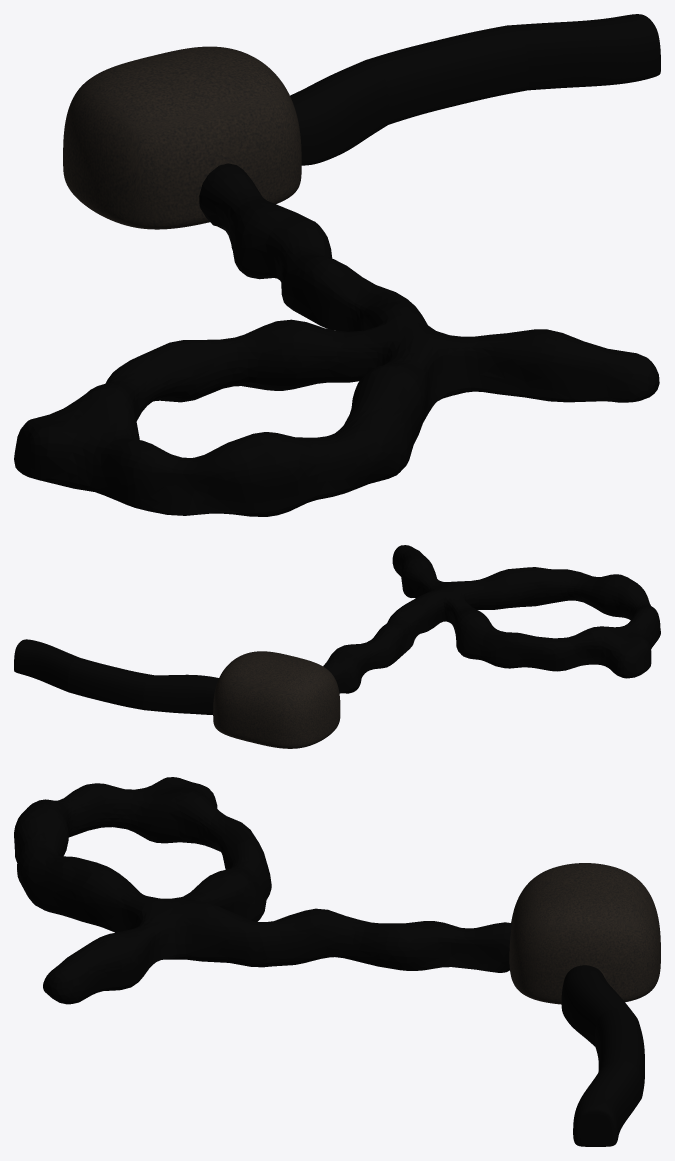
File: Prototype_Map.fbx
3 views of the same model, one above another, from view 1: azimuth 30°, elevation 25°; view 2: azimuth 150°, elevation 25°; view 3: azimuth 270°, elevation 25° (orthographic). The views are drawn at different scales.
Visible parts, largest first — view 1: Cave_1, Cave_3.5, Cave_3.7, Cave_2.2, Cave_3.8, Cave_2.3, Cave_3.11, Cave_3.9, Cave_2.1, Cave_3.10, Cave_3.3, Cave_3.6 (+3 smaller); view 2: Cave_1, Cave_3.9, Cave_3.10, Cave_2.2, Cave_2.1, Cave_3.6, Cave_3.7, Cave_2.3, Cave_3.3, Cave_3.11, Cave_3.2, Cave_3.5 (+3 smaller); view 3: Cave_1, Cave_3.3, Cave_3.5, Cave_3.6, Cave_3.9, Cave_3.2, Cave_2.3, Cave_3.4, Cave_3.1, Cave_3.8, Cave_2.1, Cave_3.7 (+3 smaller).
Part boxes in pixels (x1,y1,x2,y2): Cave_1: [63, 46, 301, 229]; Cave_3.5: [455, 329, 659, 402]; Cave_3.7: [227, 422, 391, 516]; Cave_2.2: [367, 25, 528, 124]; Cave_3.8: [84, 436, 234, 515]; Cave_2.3: [508, 14, 660, 90]; Cave_3.11: [232, 319, 378, 390]; Cave_3.9: [14, 380, 139, 490]; Cave_2.1: [290, 59, 389, 165]; Cave_3.10: [105, 337, 237, 418]; Cave_3.3: [297, 256, 426, 331]; Cave_3.6: [342, 363, 427, 479]; Cave_1: [213, 651, 340, 748]; Cave_3.9: [571, 624, 651, 678]; Cave_3.10: [479, 629, 576, 671]; Cave_2.2: [67, 657, 153, 709]; Cave_2.1: [143, 674, 218, 714]; Cave_3.6: [490, 567, 563, 609]; Cave_3.7: [561, 569, 639, 617]; Cave_2.3: [14, 639, 78, 691]; Cave_3.3: [376, 591, 440, 658]; Cave_3.11: [447, 596, 496, 659]; Cave_3.2: [330, 631, 399, 686]; Cave_3.5: [392, 545, 441, 598]; Cave_1: [509, 863, 660, 1004]; Cave_3.3: [193, 902, 330, 967]; Cave_3.5: [43, 920, 166, 1004]; Cave_3.6: [24, 853, 133, 927]; Cave_3.9: [132, 777, 222, 845]; Cave_3.2: [324, 910, 425, 970]; Cave_2.3: [573, 1060, 642, 1146]; Cave_3.4: [103, 883, 200, 960]; Cave_3.1: [422, 921, 511, 972]; Cave_3.8: [43, 783, 134, 837]; Cave_2.1: [561, 965, 633, 1046]; Cave_3.7: [14, 800, 68, 893].
Bounding box in the file's own units: 3527 × 465 × 2912.
15 materials, 15 textured.
